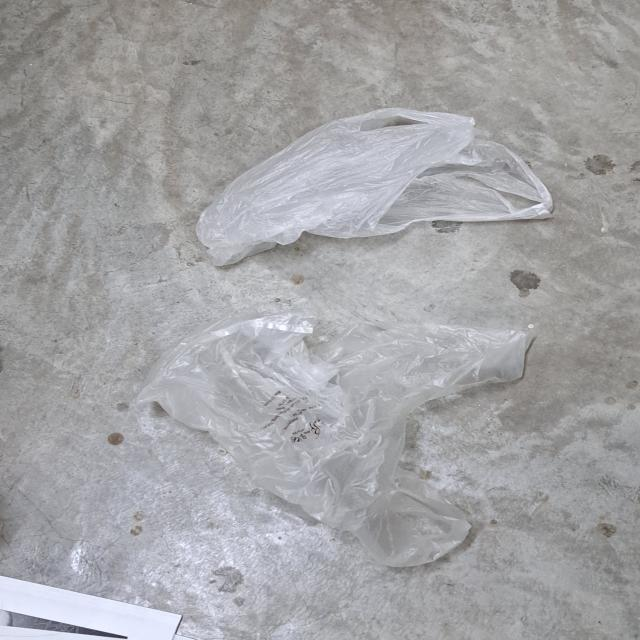paper: (0, 574, 183, 640)
plastic bag: (135, 310, 537, 571), (198, 107, 554, 270)
